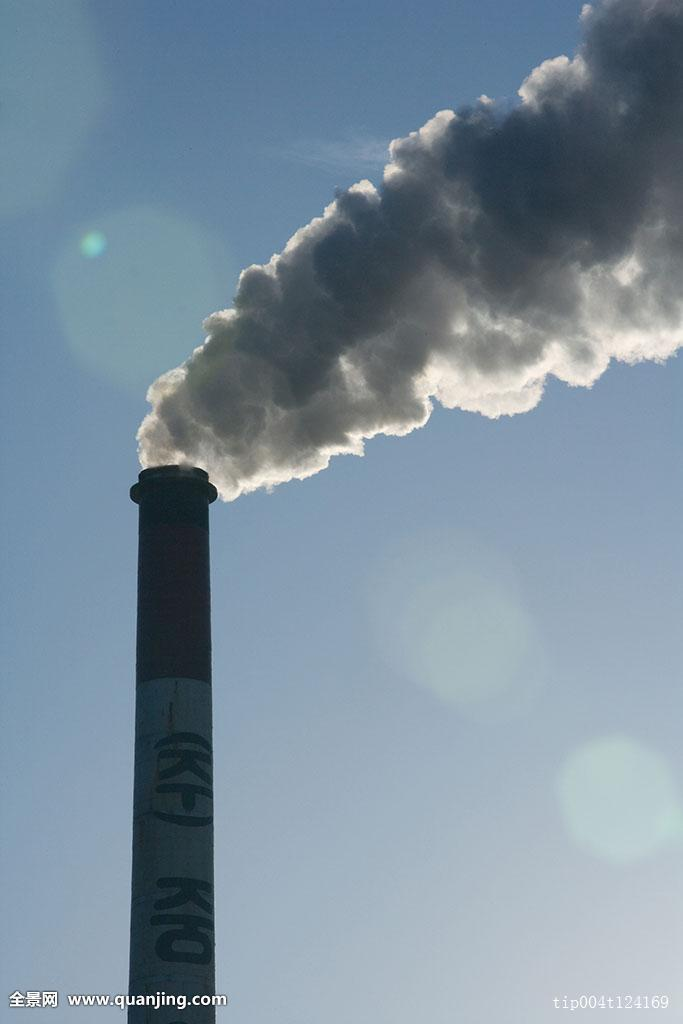dust: (117, 66, 645, 527)
